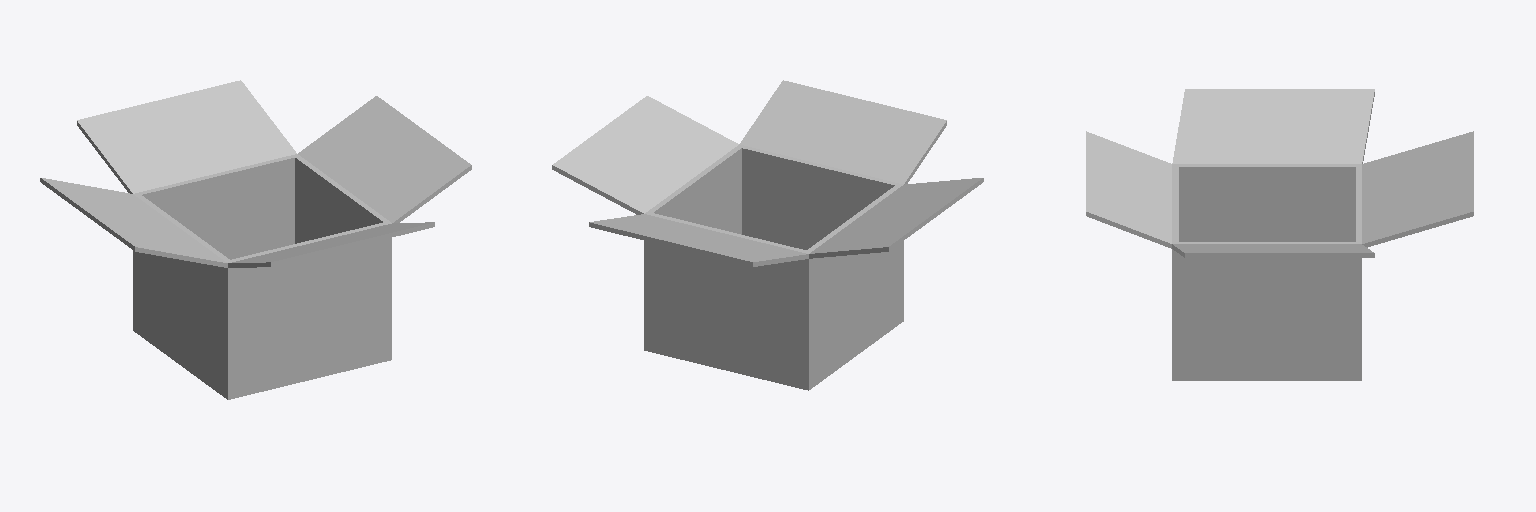
The model's file is Empty box.obj.
3 renders of one model, left to right at view 1: azimuth 30°, elevation 25°; view 2: azimuth 150°, elevation 25°; view 3: azimuth 270°, elevation 25°, orthographic.
Visible parts, largest first — view 1: Box001; view 2: Box001; view 3: Box001.
Part boxes in pixels (left/top/right/bottom): Box001: left=40, top=80, right=471, bottom=399; Box001: left=552, top=80, right=983, bottom=390; Box001: left=1086, top=89, right=1473, bottom=380.
Size of the model in its own units: 419578 by 202094 by 419578.